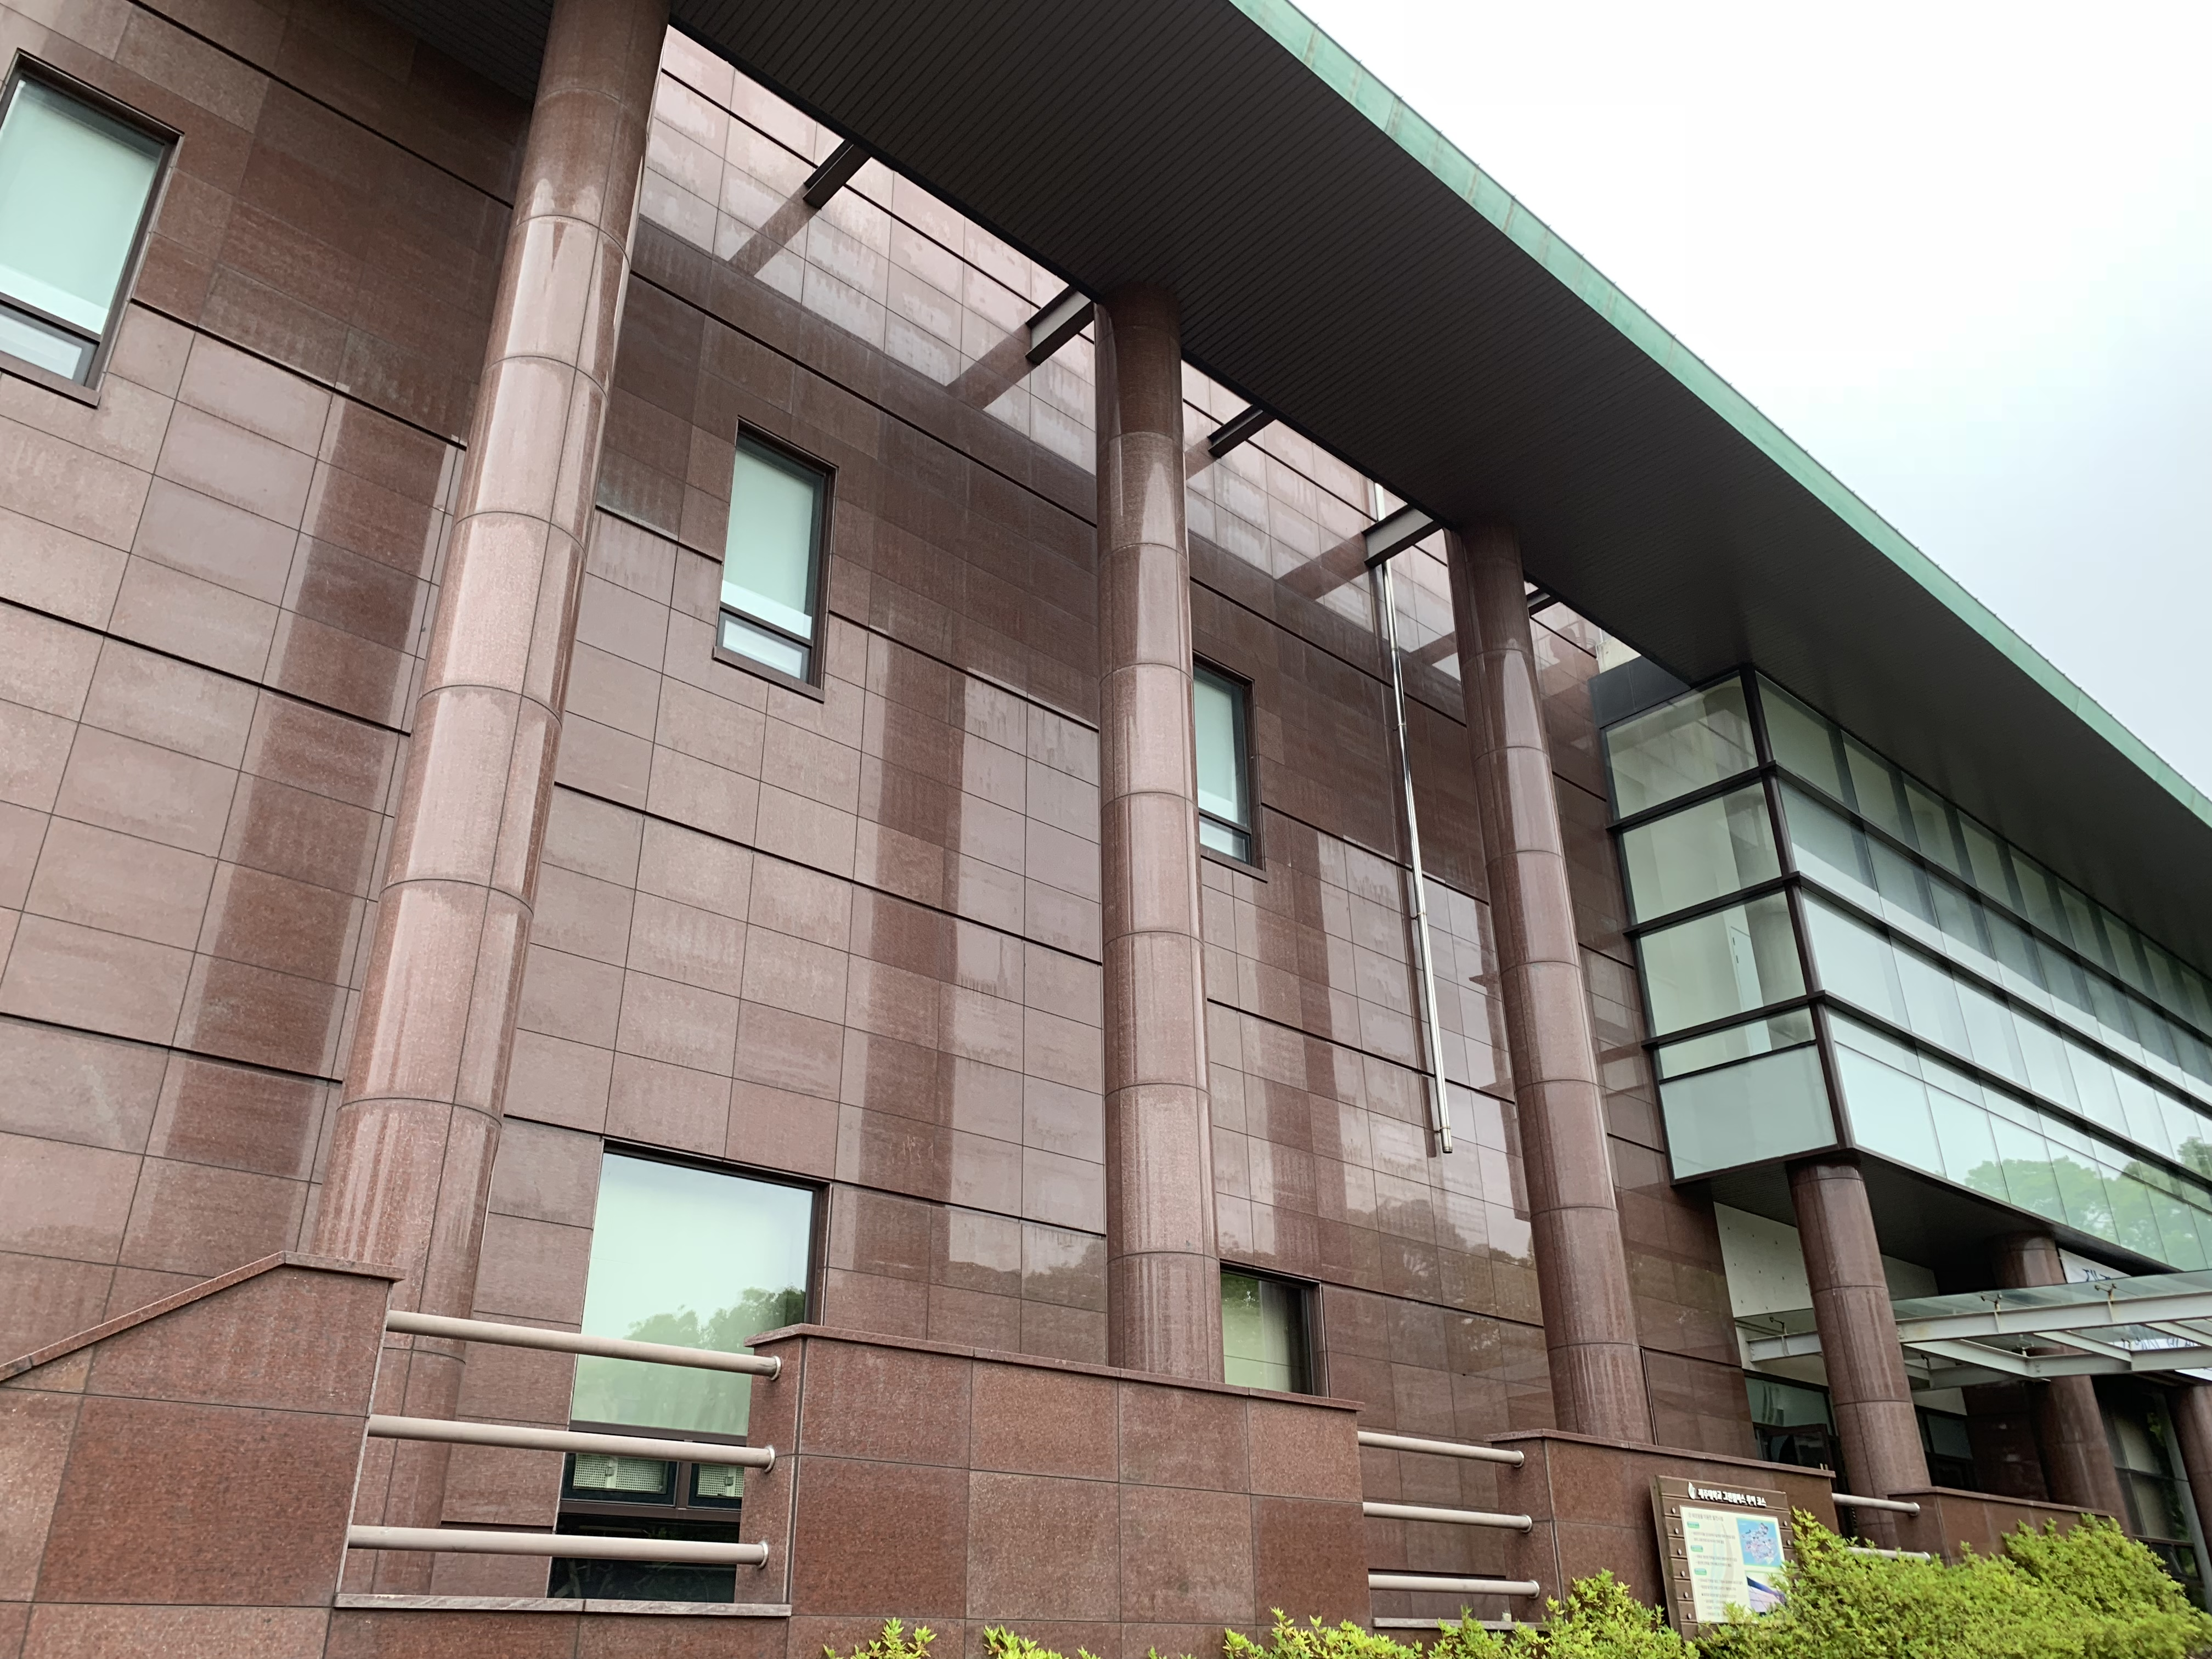Museum: (632, 183, 2179, 1638)
